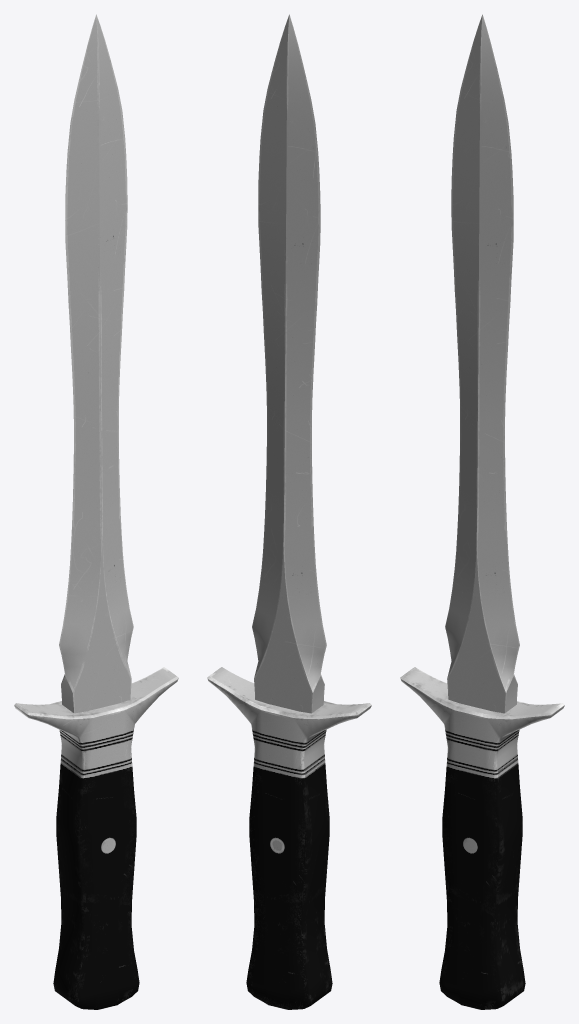
File: ENV1510006.fbx
3 renders of one model, left to right at view 1: azimuth 30°, elevation 25°; view 2: azimuth 150°, elevation 25°; view 3: azimuth 330°, elevation 25°, orthographic.
Parts seen in each view (by area): view 1: smENV1510006; view 2: smENV1510006; view 3: smENV1510006.
Boxes of the visible parts, bbox=[...] form: smENV1510006: bbox=[14, 14, 178, 1009]; smENV1510006: bbox=[207, 14, 371, 1009]; smENV1510006: bbox=[400, 14, 564, 1009].
Bounding box in the file's own units: 8.26 × 51.28 × 2.27.
1 material, 1 textured.
